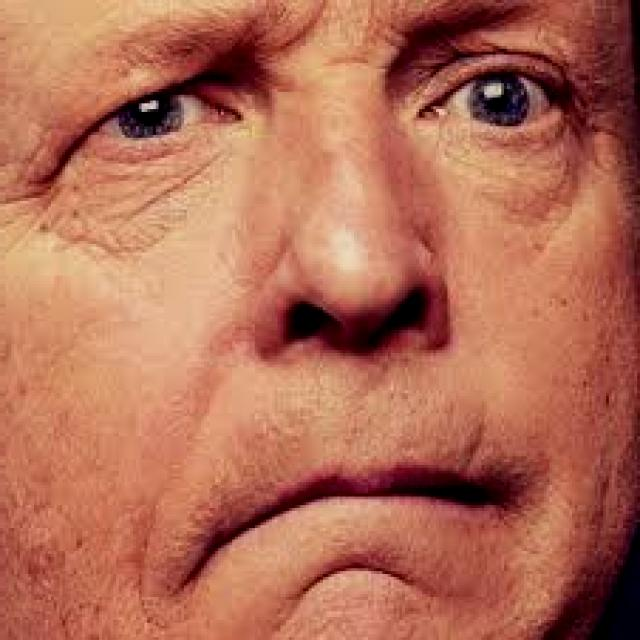stroke_face: (0, 2, 618, 640)
